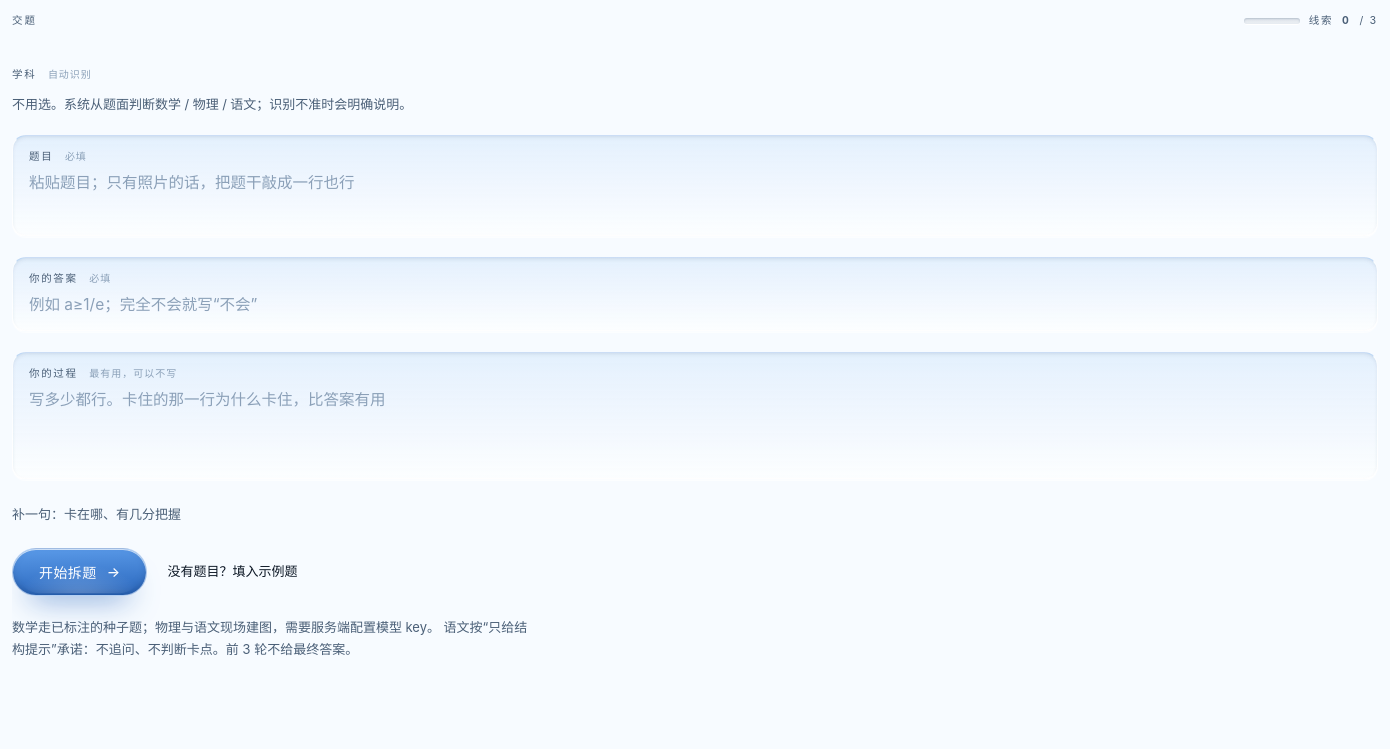
ProblemForm › fills the sample and opens the optional section
The width and height of the screenshot is (1390, 749).
Click the button "没有题目？填入示例题": (232, 572) x1=168 y1=561 x2=298 y2=582
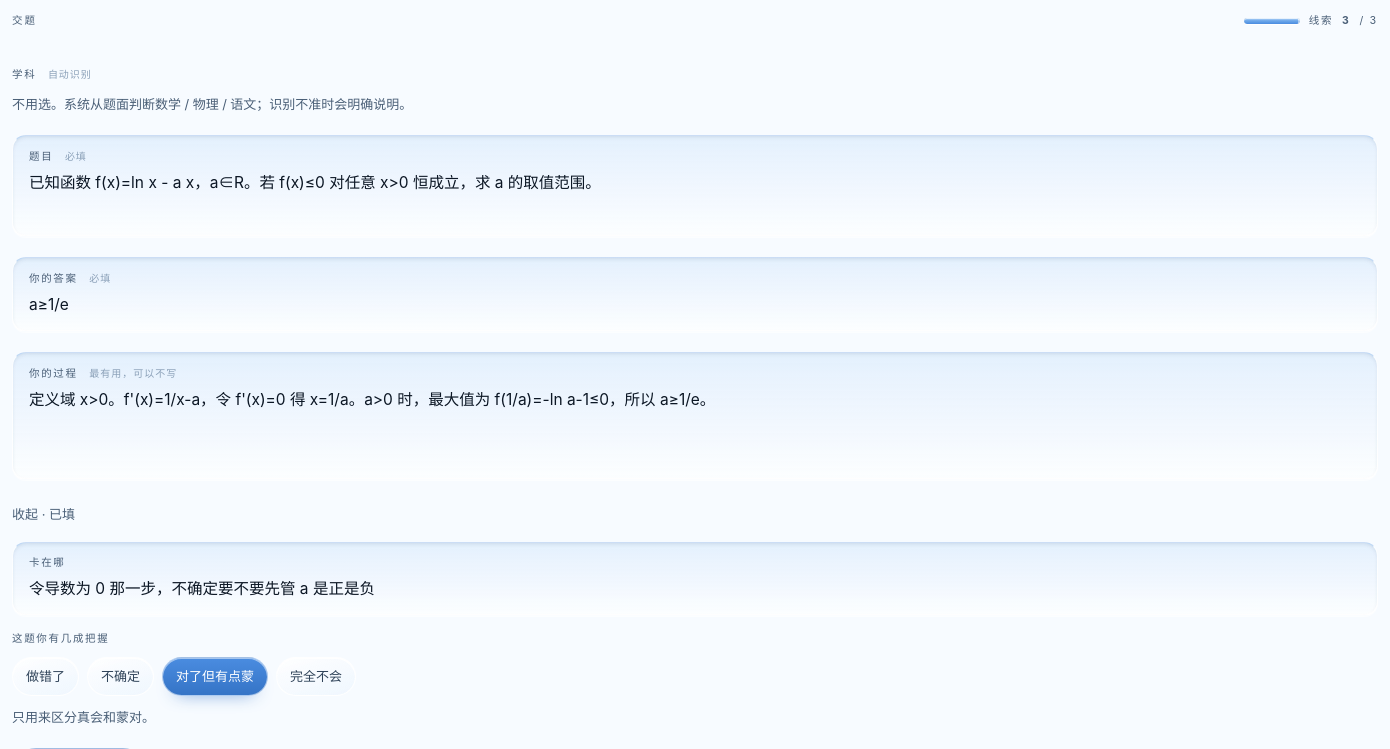
Result: the text box showing "已知函数 f(x)=ln x - a x" is shown at x1=29 y1=170 x2=1361 y2=223
Result: the button "收起 · 已填" is expanded at x1=12 y1=504 x2=75 y2=525
